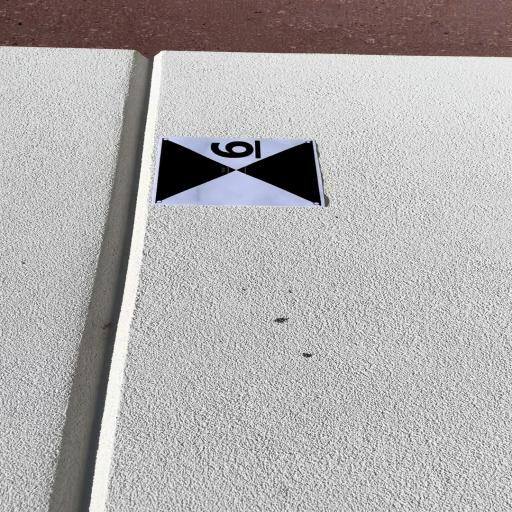target6: (158, 136, 325, 207)
